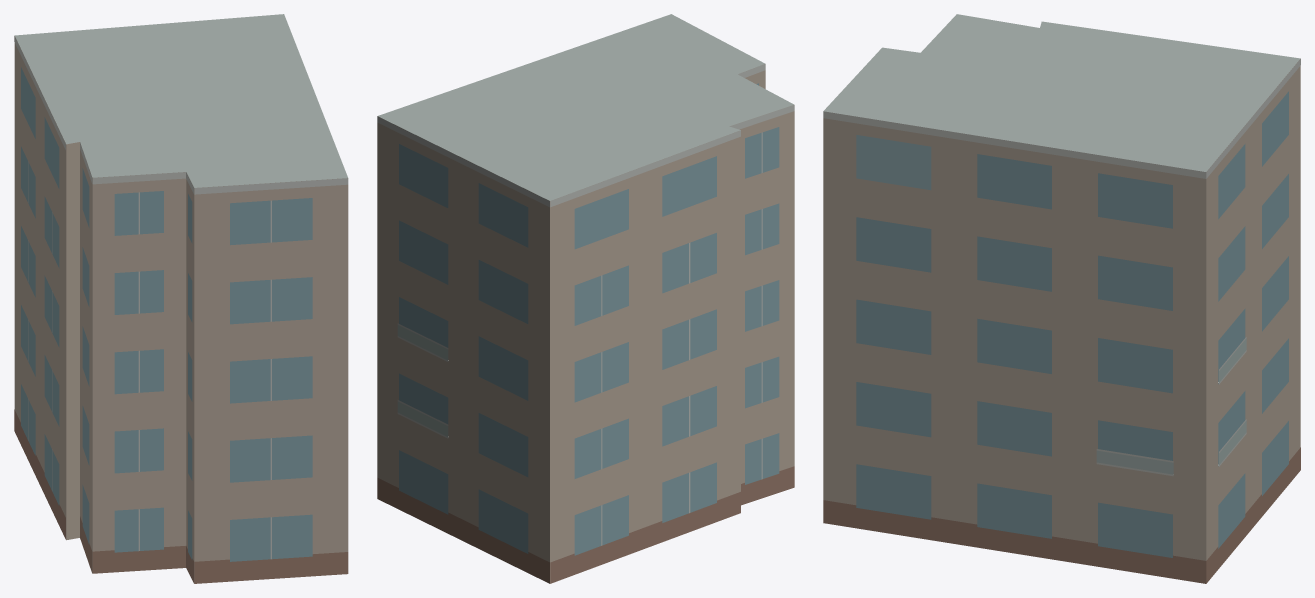
File: survey-upis-32989794.glb
3 renders of one model, left to right at view 1: azimuth 30°, elevation 25°; view 2: azimuth 150°, elevation 25°; view 3: azimuth 270°, elevation 25°, orthographic. The views are drawn at different scales.
Visible parts, largest first — view 1: survey-upis-32989794.tmp; view 2: survey-upis-32989794.tmp; view 3: survey-upis-32989794.tmp.
Part boxes in pixels (box(x1,y1,x2,y2)): survey-upis-32989794.tmp: box(14, 14, 348, 583); survey-upis-32989794.tmp: box(377, 14, 794, 583); survey-upis-32989794.tmp: box(823, 14, 1300, 583).
Size of the model in its own units: 12.03 by 14.6 by 15.36.
